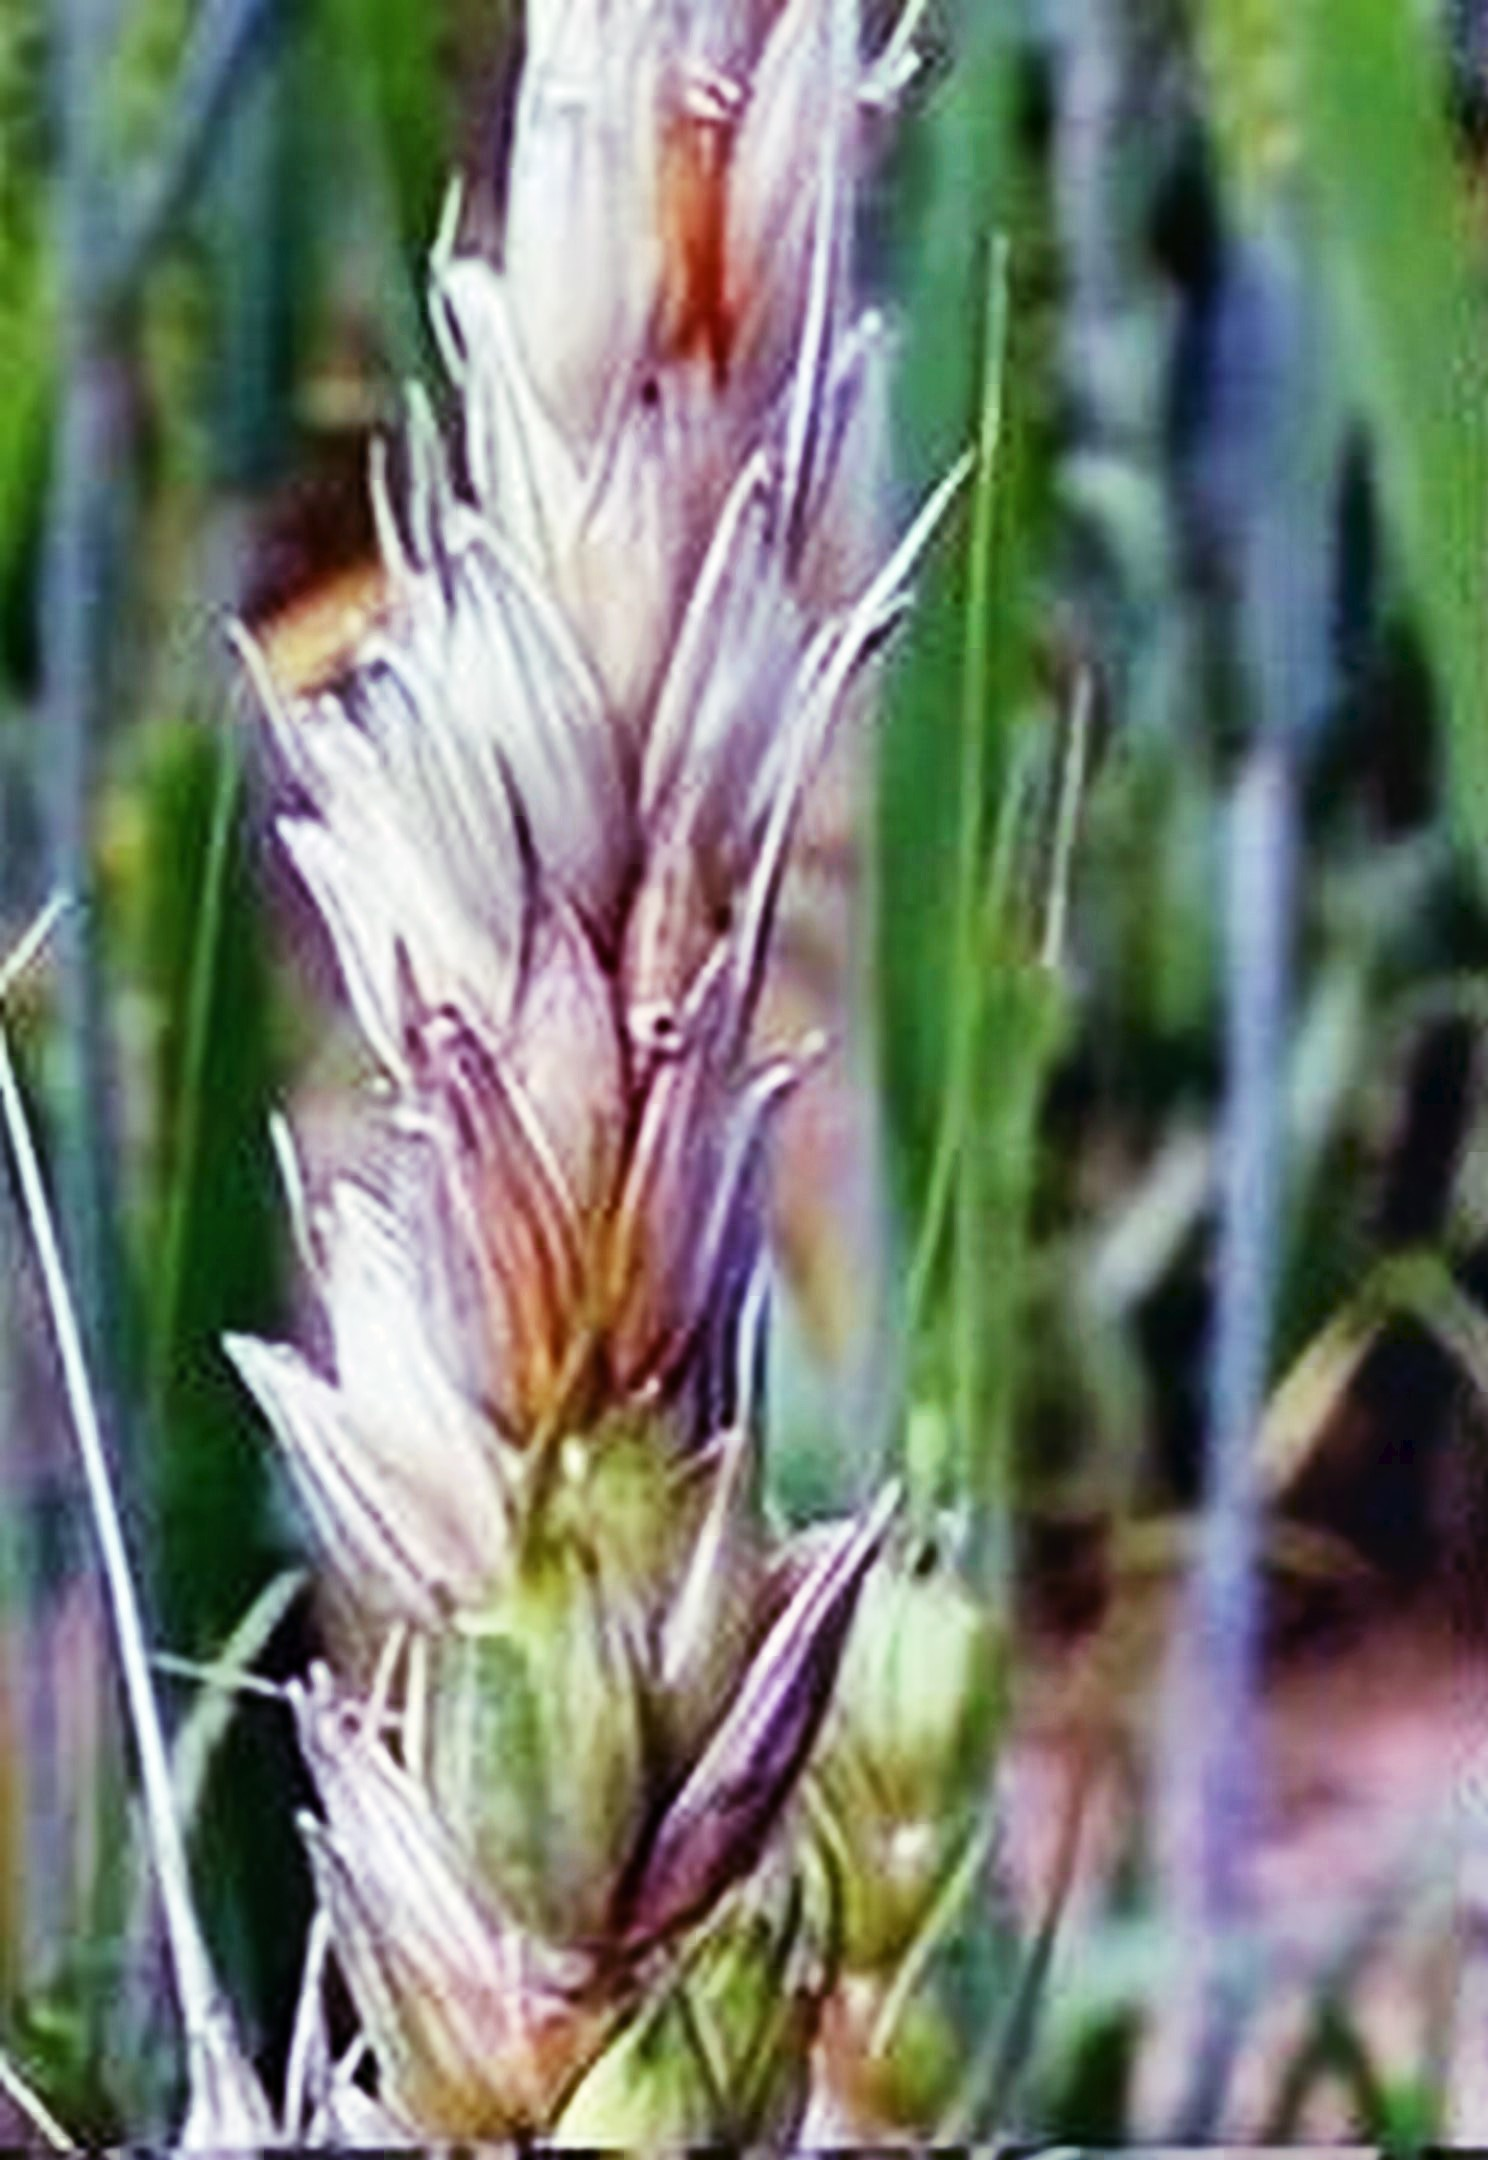Wheat scab: (256, 89, 930, 2145)
